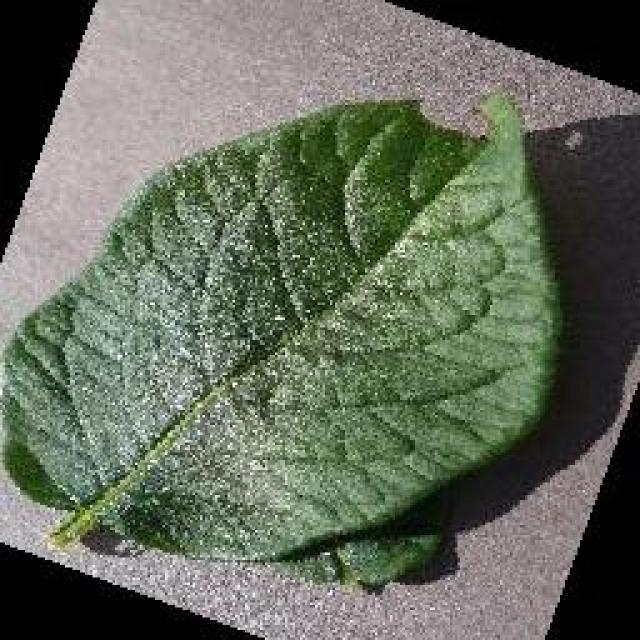Potato___healthy: (0, 87, 569, 593)
